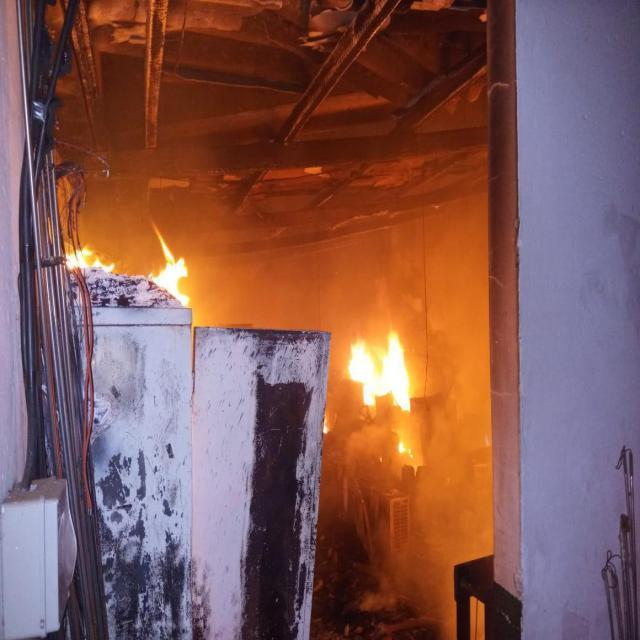Fire: (346, 326, 410, 409), (142, 220, 192, 308), (64, 245, 114, 273), (398, 440, 412, 458), (324, 414, 330, 436)
